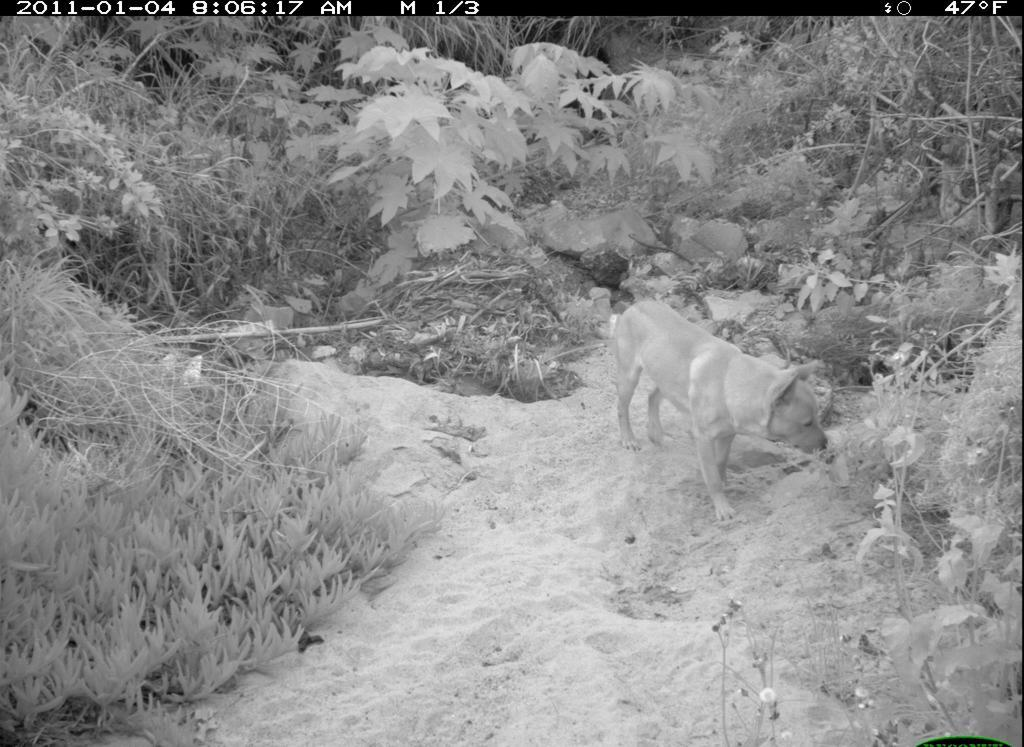dog: (605, 290, 847, 524)
